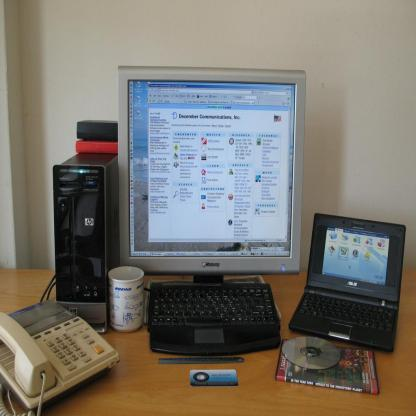board: (289, 211, 406, 352)
